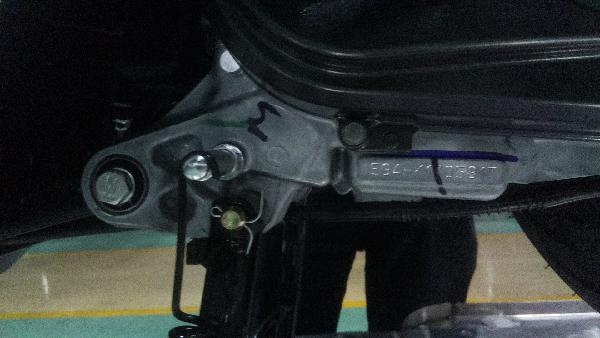box: (369, 162, 497, 179)
